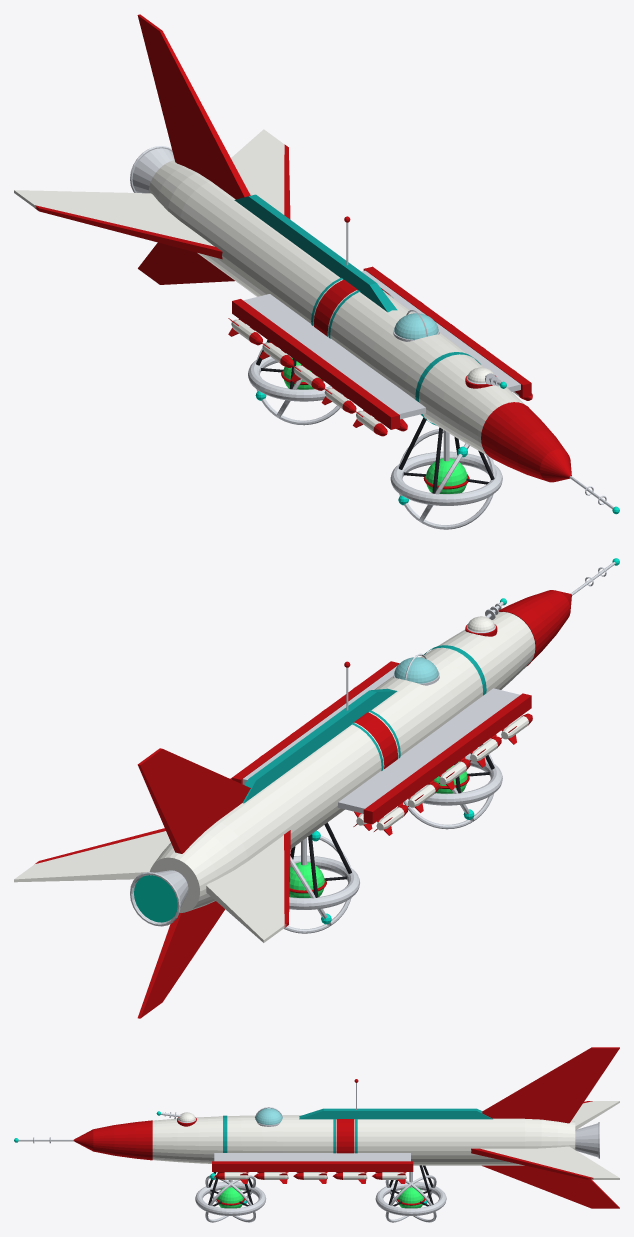
File: destroyer.obj
3 views of the same model, one above another, from view 1: azimuth 30°, elevation 25°; view 2: azimuth 150°, elevation 25°; view 3: azimuth 270°, elevation 25° (orthographic). The views are drawn at different scales.
Visible parts, largest first — view 1: destroyer; view 2: destroyer; view 3: destroyer.
Part boxes in pixels (<box>): destroyer: <box>14,14,619,529</box>; destroyer: <box>14,558,619,1018</box>; destroyer: <box>14,1047,619,1222</box>.
Bounding box in the file's own units: 166 × 177 × 550.
Materials: 1 (1 with a texture image).
